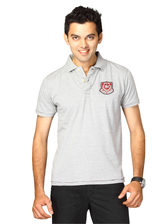clothoes: (29, 53, 139, 186)
watch: (125, 172, 147, 190)
